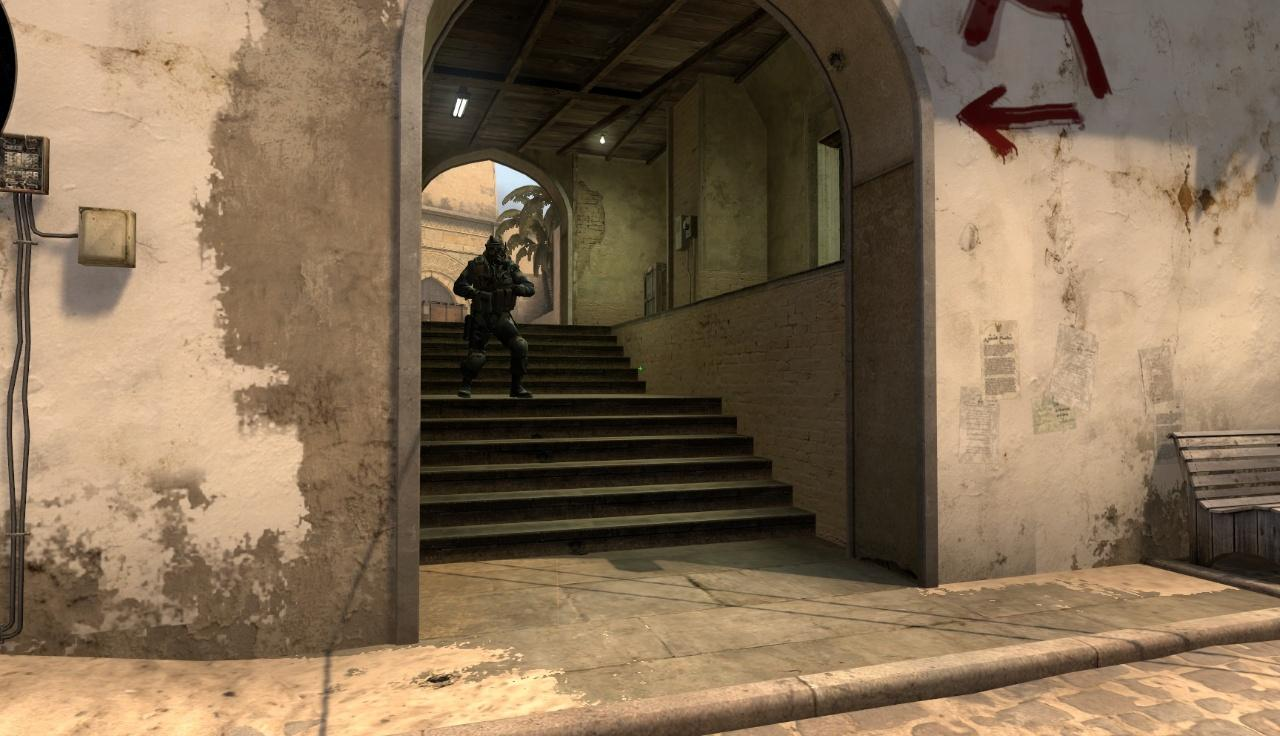ct: (453, 235, 535, 403)
cthead: (485, 235, 508, 265)
